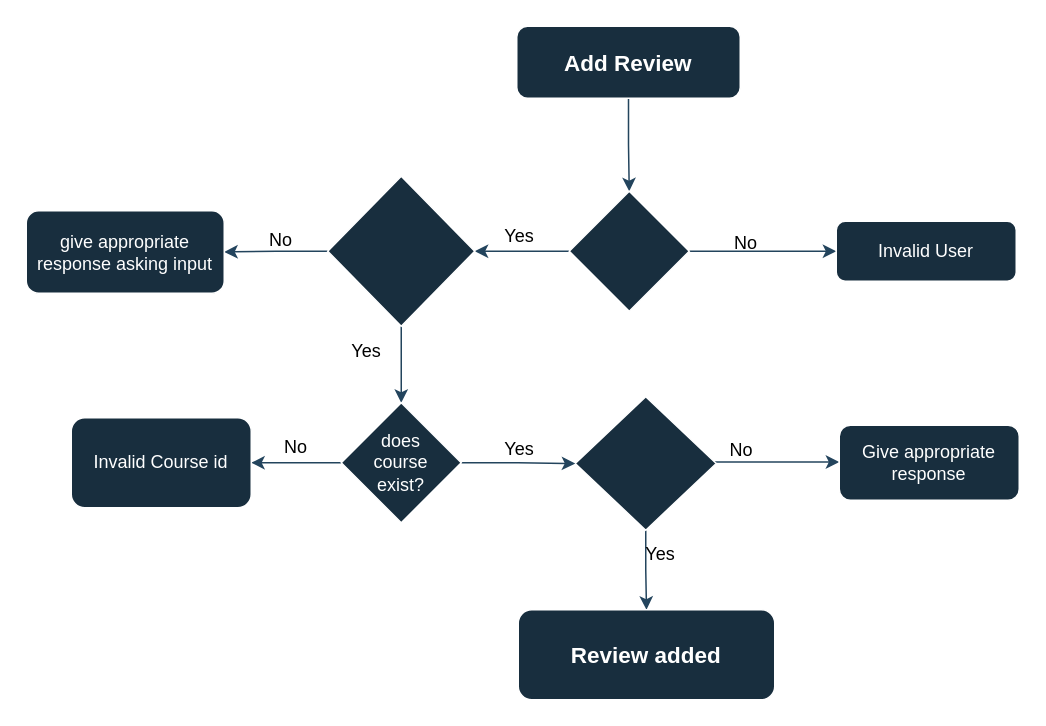
Image size: 1046x726. Some labels were removed from this diagram. The shapes that lost their labels are listed below. From the top down, each one's centre as x and y in pixels, then its label:
At point (400, 250): "all required input given?".
At point (628, 250): "is user valid? .".
At point (645, 462): "is course completed?".
